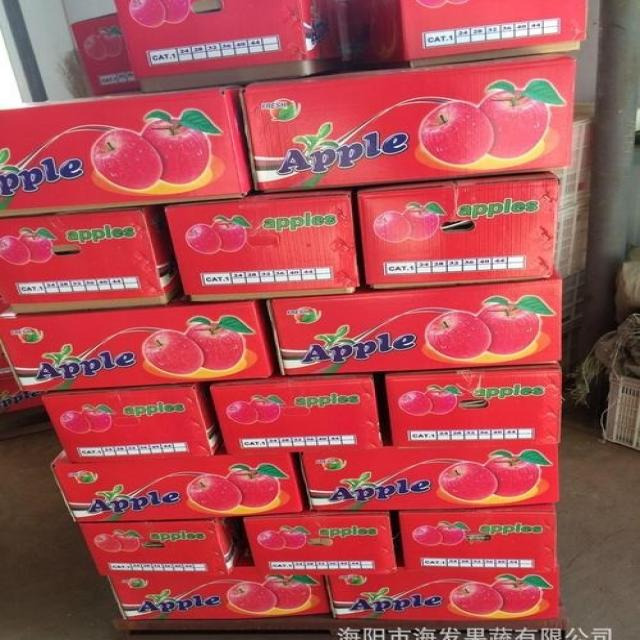box: (243, 52, 576, 194), (0, 82, 255, 219), (0, 287, 279, 394), (273, 276, 562, 376), (358, 170, 560, 289), (167, 184, 365, 301), (0, 203, 185, 317), (112, 0, 346, 89), (54, 446, 305, 523), (301, 441, 559, 509), (346, 0, 586, 70), (107, 551, 332, 620), (40, 383, 220, 465), (384, 367, 564, 446), (208, 376, 384, 452), (325, 572, 561, 621), (399, 503, 559, 572), (78, 520, 245, 578), (242, 514, 398, 572), (69, 11, 139, 96), (2, 350, 43, 417)
